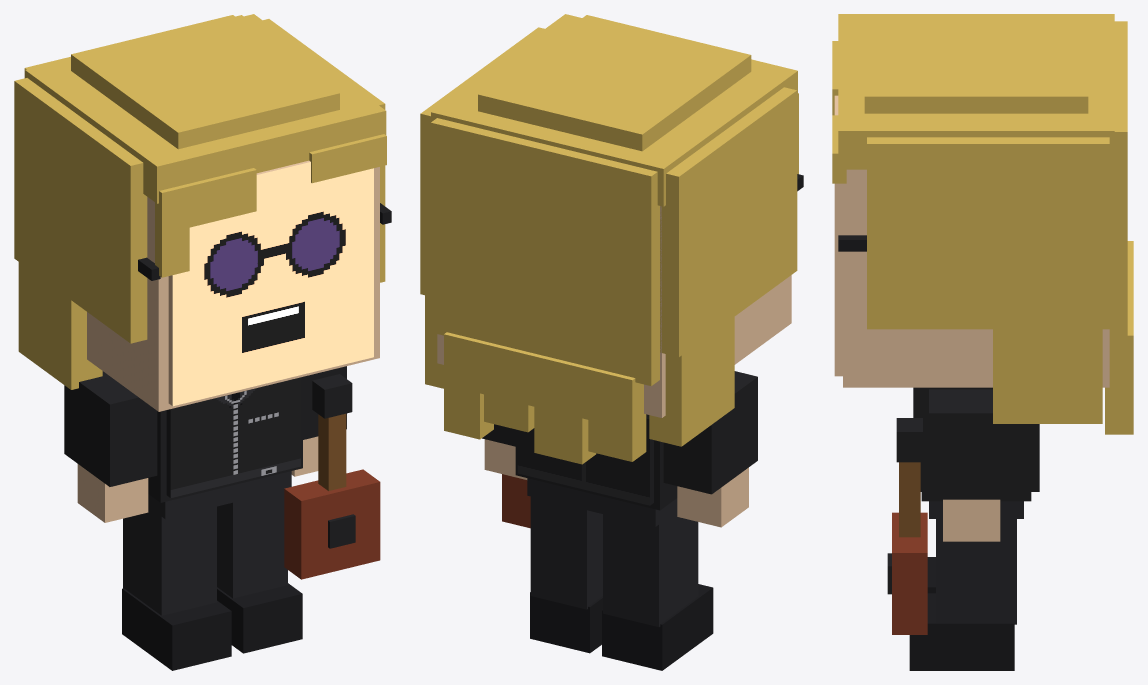
File: yotan.glb
3 views of the same model, side by side, from view 1: azimuth 30°, elevation 25°; view 2: azimuth 150°, elevation 25°; view 3: azimuth 270°, elevation 25° (orthographic). The views are drawn at different scales.
Visible parts, largest first — view 1: YotanVoxel_FacePanel, YotanVoxel_SideHair_-1, YotanVoxel_HairTop, YotanVoxel_HairCap, YotanVoxel_JacketFrontPanel, YotanVoxel_PantsLeg_-1, YotanVoxel_SecondarySleeve, YotanVoxel_HeadCube, YotanVoxel_PrimaryGuitarBody, YotanVoxel_PantsLeg_1, YotanVoxel_SideHairLong_-1, YotanVoxel_Boot_-1 (+13 smaller); view 2: YotanVoxel_RearHairMain, YotanVoxel_SideHair_-1, YotanVoxel_HairTop, YotanVoxel_HairCap, YotanVoxel_RearHairLow, YotanVoxel_PantsLeg_-1, YotanVoxel_PantsLeg_1, YotanVoxel_SideHairLong_-1, YotanVoxel_SecondarySleeve, YotanVoxel_Boot_-1, YotanVoxel_JacketBackPanel, YotanVoxel_HeadCube (+12 smaller); view 3: YotanVoxel_SideHair_1, YotanVoxel_HairTop, YotanVoxel_HairCap, YotanVoxel_HeadCube, YotanVoxel_SideHairLong_1, YotanVoxel_PrimarySleeve, YotanVoxel_PantsLeg_1, YotanVoxel_RearHairMain, YotanVoxel_Boot_1, YotanVoxel_PrimaryGuitarBody, YotanVoxel_PrimaryHand, YotanVoxel_FacePanel (+9 smaller).
Boxes of the visible parts, x1=… form: YotanVoxel_FacePanel: x1=168, y1=160, x2=373, y2=406; YotanVoxel_SideHair_-1: x1=14, y1=78, x2=147, y2=343; YotanVoxel_HairTop: x1=71, y1=15, x2=339, y2=149; YotanVoxel_HairCap: x1=25, y1=14, x2=386, y2=203; YotanVoxel_JacketFrontPanel: x1=166, y1=377, x2=300, y2=497; YotanVoxel_PantsLeg_-1: x1=123, y1=506, x2=216, y2=615; YotanVoxel_SecondarySleeve: x1=64, y1=371, x2=157, y2=486; YotanVoxel_HeadCube: x1=87, y1=167, x2=379, y2=411; YotanVoxel_PrimaryGuitarBody: x1=284, y1=469, x2=380, y2=579; YotanVoxel_PantsLeg_1: x1=217, y1=490, x2=287, y2=598; YotanVoxel_SideHairLong_-1: x1=18, y1=262, x2=102, y2=389; YotanVoxel_Boot_-1: x1=122, y1=588, x2=231, y2=670; YotanVoxel_RearHairMain: x1=430, y1=118, x2=659, y2=386; YotanVoxel_SideHair_-1: x1=660, y1=87, x2=797, y2=356; YotanVoxel_HairTop: x1=478, y1=15, x2=751, y2=151; YotanVoxel_HairCap: x1=431, y1=14, x2=797, y2=206; YotanVoxel_RearHairLow: x1=444, y1=332, x2=646, y2=430; YotanVoxel_PantsLeg_-1: x1=603, y1=509, x2=698, y2=626; YotanVoxel_PantsLeg_1: x1=530, y1=496, x2=602, y2=609; YotanVoxel_SideHairLong_-1: x1=649, y1=317, x2=734, y2=446; YotanVoxel_SecondarySleeve: x1=663, y1=371, x2=757, y2=494; YotanVoxel_Boot_-1: x1=602, y1=584, x2=713, y2=670; YotanVoxel_JacketBackPanel: x1=517, y1=414, x2=653, y2=505; YotanVoxel_HeadCube: x1=437, y1=206, x2=791, y2=417; YotanVoxel_SideHair_1: x1=867, y1=137, x2=1109, y2=329; YotanVoxel_HairTop: x1=864, y1=14, x2=1088, y2=113; YotanVoxel_HairCap: x1=838, y1=14, x2=1114, y2=169; YotanVoxel_HeadCube: x1=843, y1=169, x2=1109, y2=387; YotanVoxel_SideHairLong_1: x1=993, y1=329, x2=1102, y2=423; YotanVoxel_PrimarySleeve: x1=929, y1=389, x2=1023, y2=499; YotanVoxel_PantsLeg_1: x1=936, y1=516, x2=1016, y2=624; YotanVoxel_RearHairMain: x1=1109, y1=21, x2=1127, y2=347; YotanVoxel_Boot_1: x1=909, y1=593, x2=1014, y2=670; YotanVoxel_PrimaryGuitarBody: x1=892, y1=512, x2=927, y2=634; YotanVoxel_PrimaryHand: x1=943, y1=499, x2=1000, y2=541; YotanVoxel_FacePanel: x1=834, y1=95, x2=842, y2=376.
Size of the model in its own units: 1.32 by 2.7 by 1.27.
12 materials, 3 textured.
